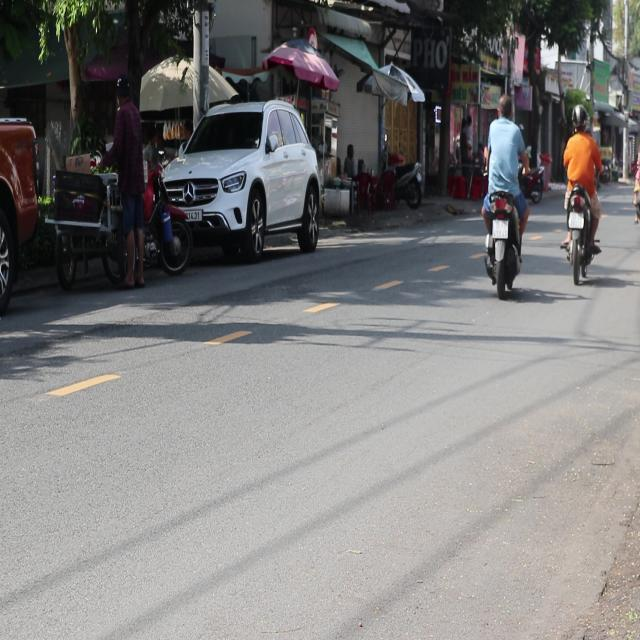helmet: (570, 103, 587, 132)
licenseplate: (479, 91, 529, 295), (559, 102, 603, 280)
motorcyclist: (496, 92, 512, 119)
nohelmet: (492, 219, 508, 238), (568, 212, 584, 228)
